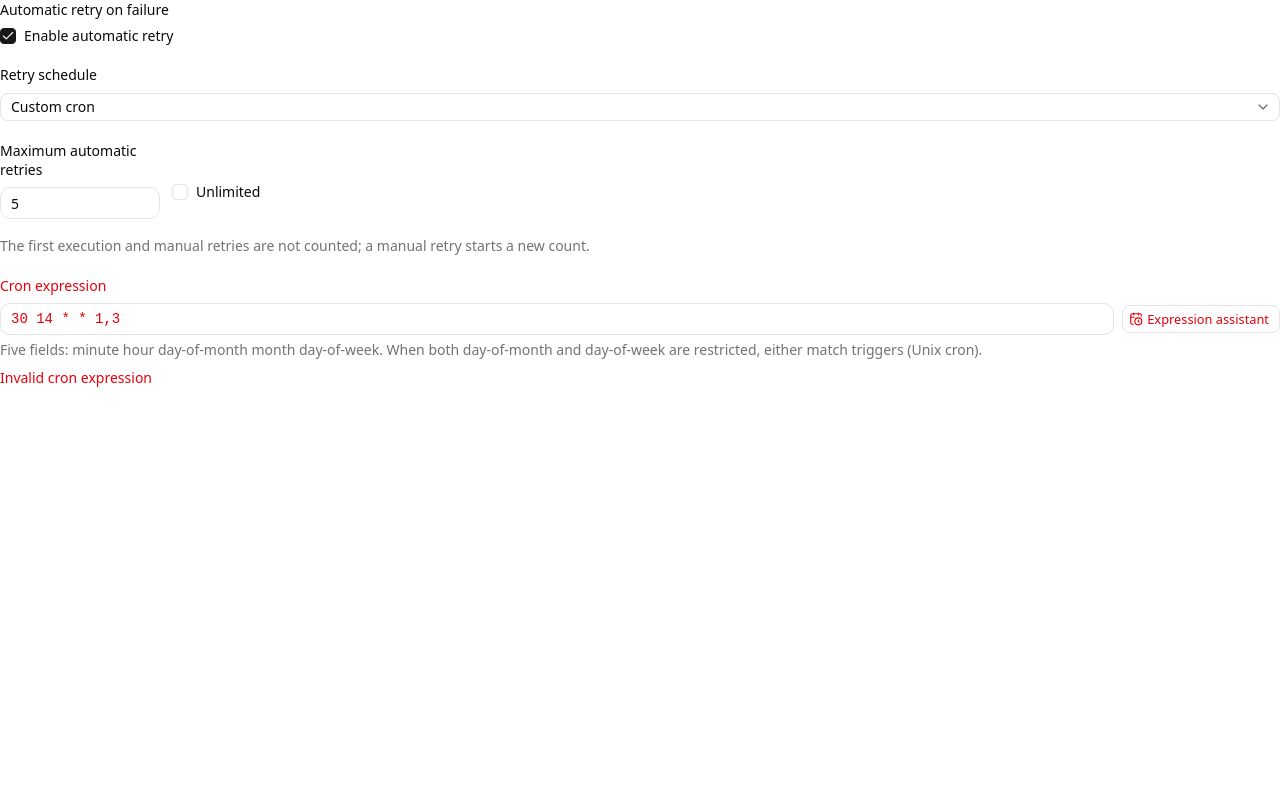
it: TerminalAutoRetrySettings review regressions › reverse-fills the assistant from the current cron draft
This screenshot has width=1280, height=800.
Click the button "Expression assistant" at (1201, 319), box x1=1122 y1=305 x2=1279 y2=333
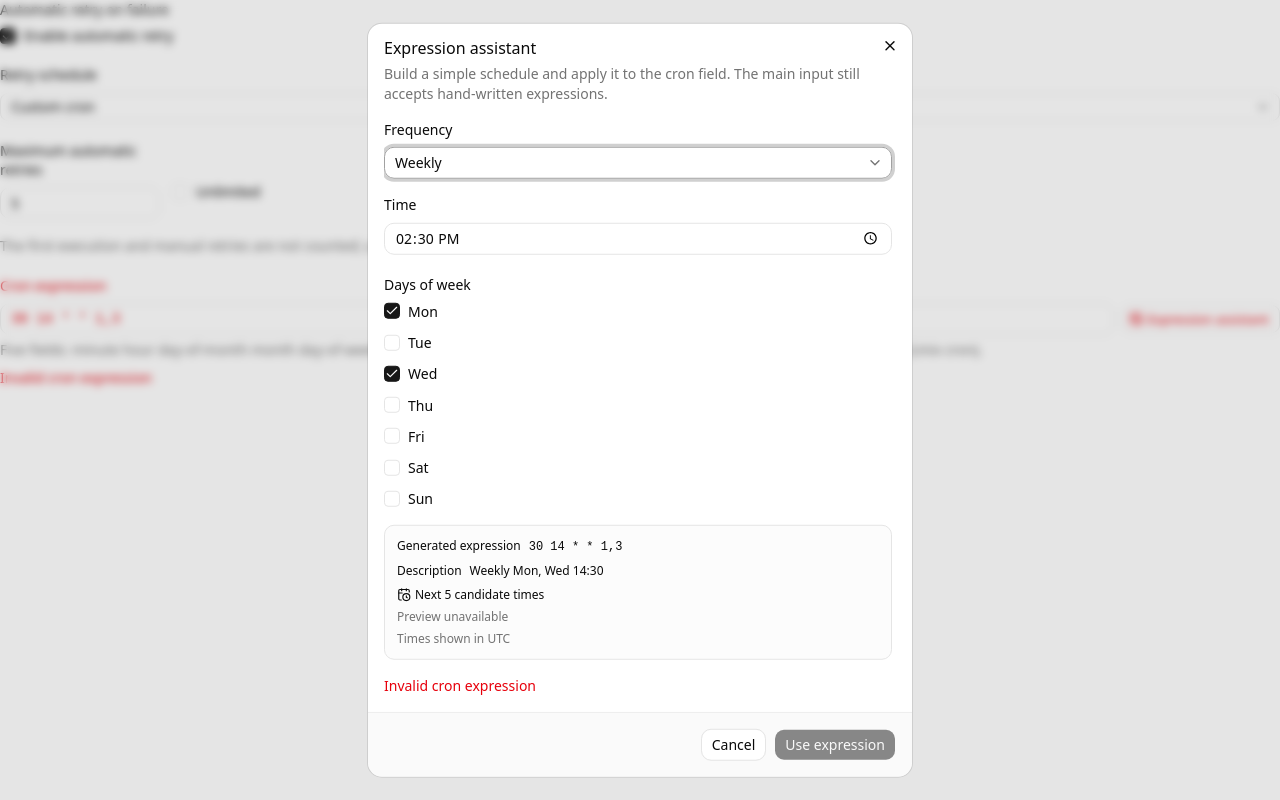
Now the text "30 14 * * 1,3" is shown, box x1=529 y1=538 x2=622 y2=554
Now the text "Days of week" is shown, box x1=384 y1=274 x2=471 y2=293
